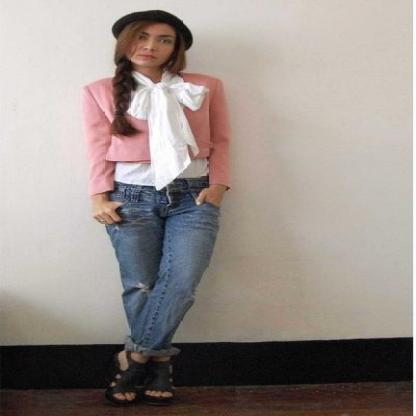hat: (138, 9, 192, 50)
pants: (98, 175, 219, 362)
shirt: (82, 62, 237, 201), (114, 160, 207, 185)
shoe: (112, 358, 175, 395)
